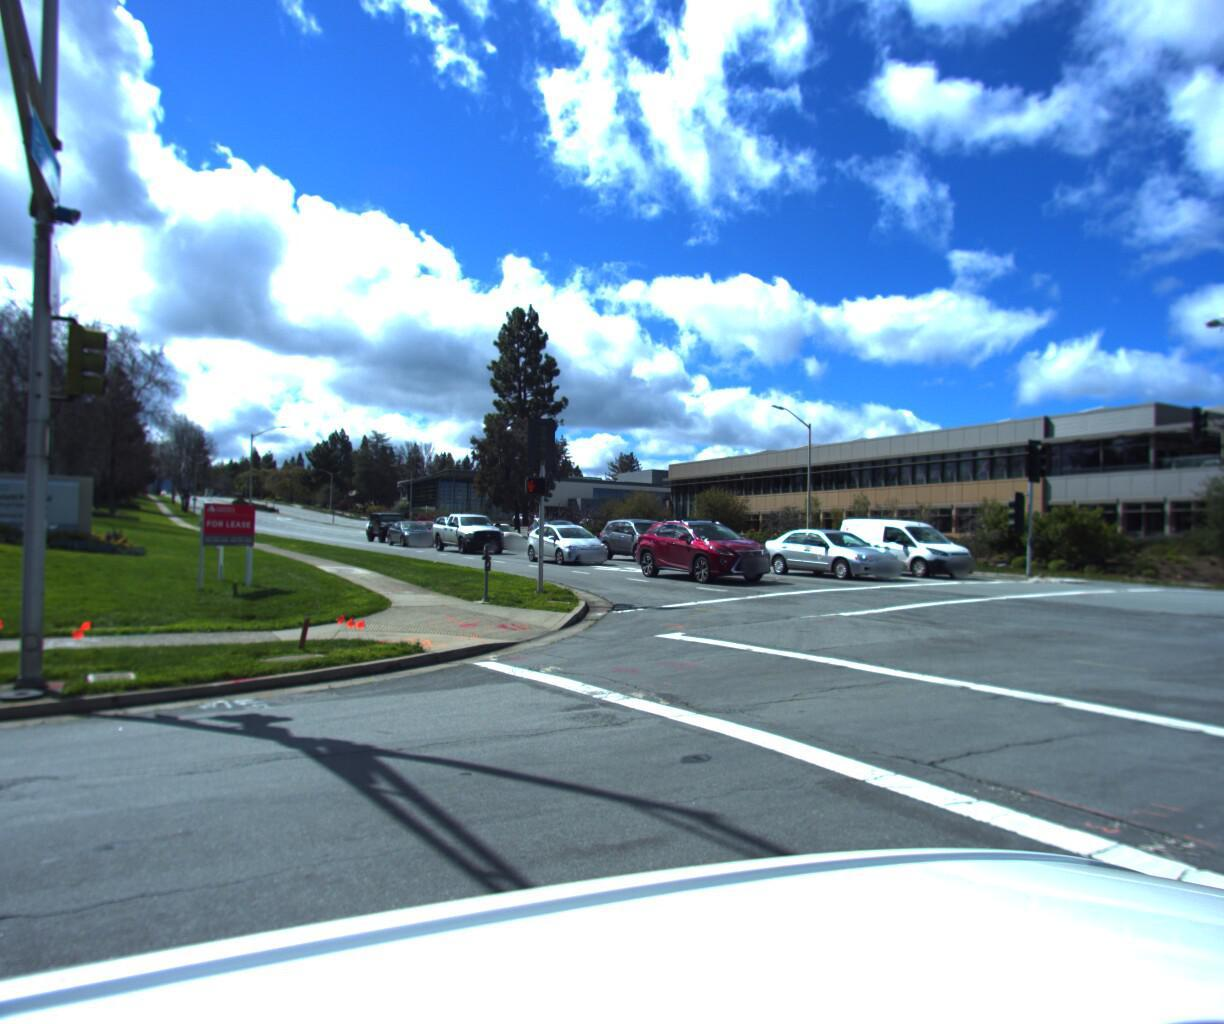car: (620, 519, 776, 592), (827, 519, 981, 586), (752, 531, 906, 587), (592, 525, 689, 570), (516, 527, 614, 573), (426, 517, 509, 560), (470, 526, 533, 557), (380, 525, 438, 554), (366, 517, 411, 548)
